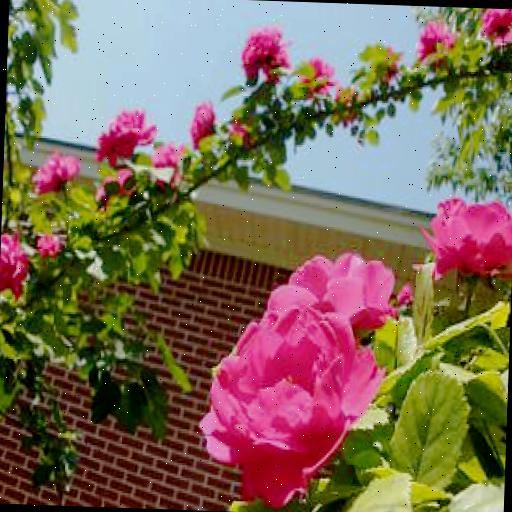rose: (202, 306, 384, 480), (415, 196, 512, 276), (90, 103, 161, 161), (236, 22, 290, 76)
